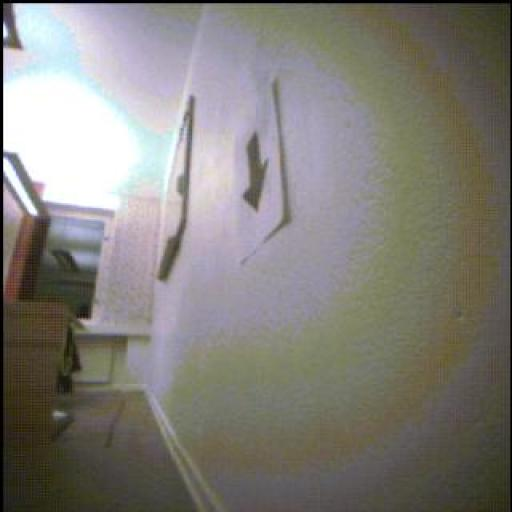arrow: (244, 134, 270, 212)
